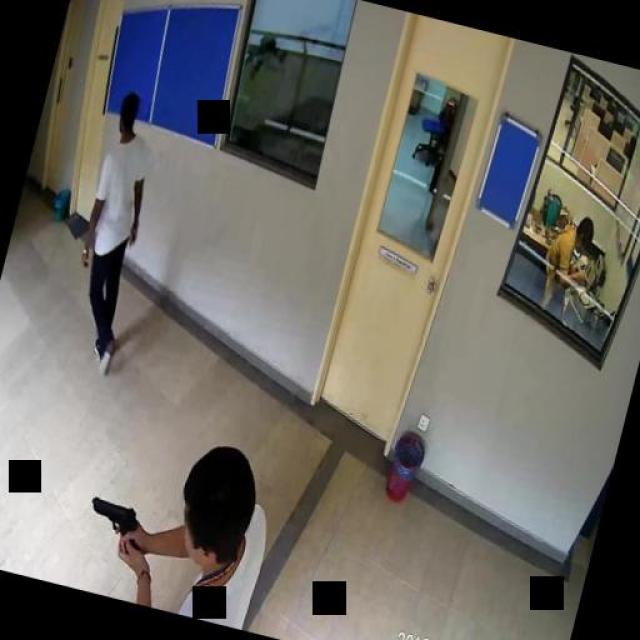gun: (82, 494, 144, 550)
